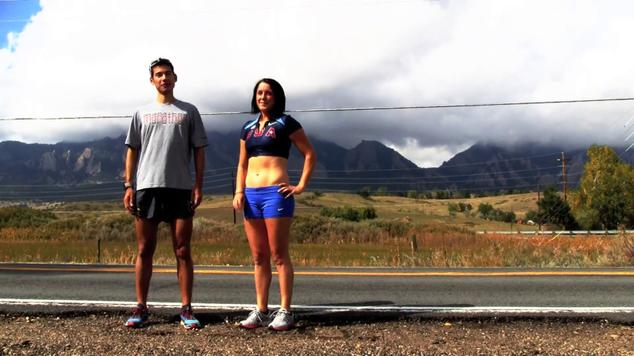stay: (124, 44, 205, 328)
